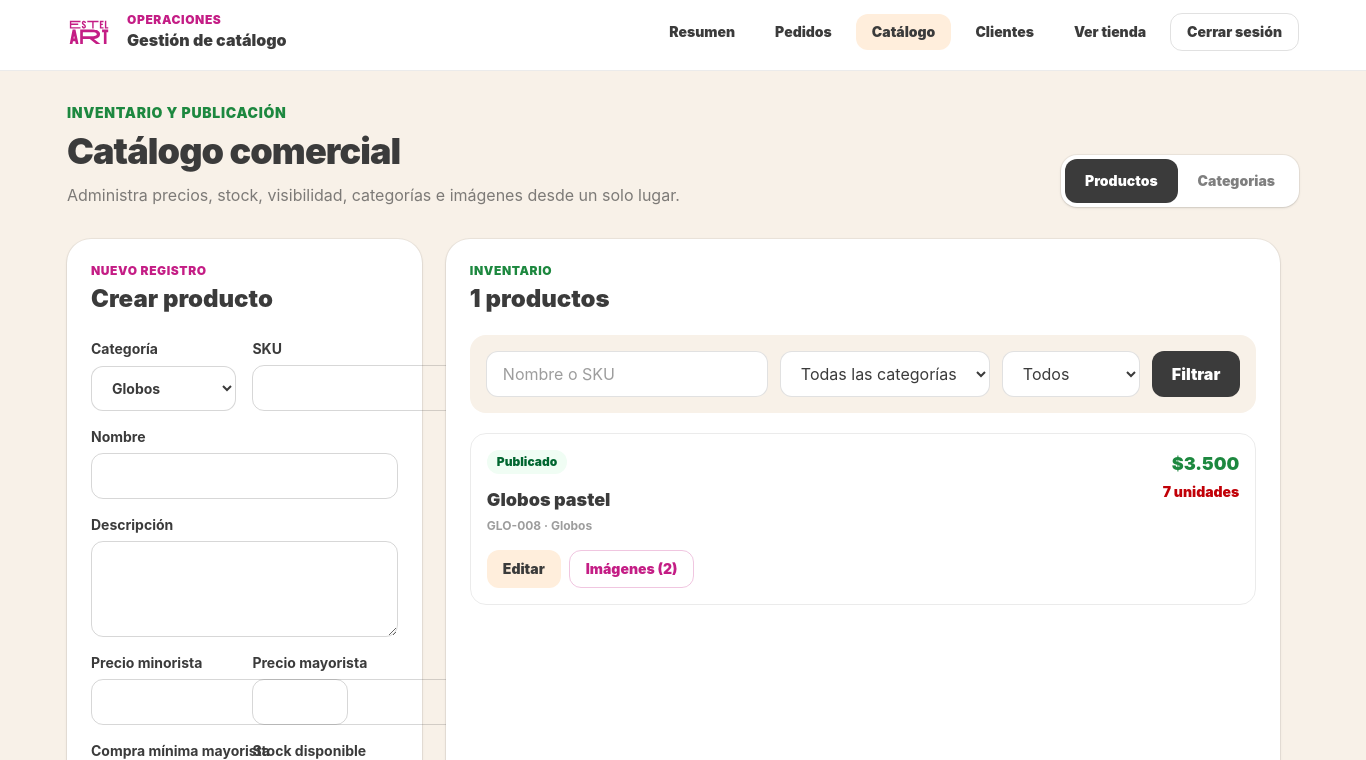
it: GestionCatalogo › edita stock y conserva el contrato esperado por la API
Expected: the heading "Globos pastel" is shown, [487,486,610,514]
Click the button "Editar".
click(524, 569)  # box [487,550,561,588]
(page scrolled)
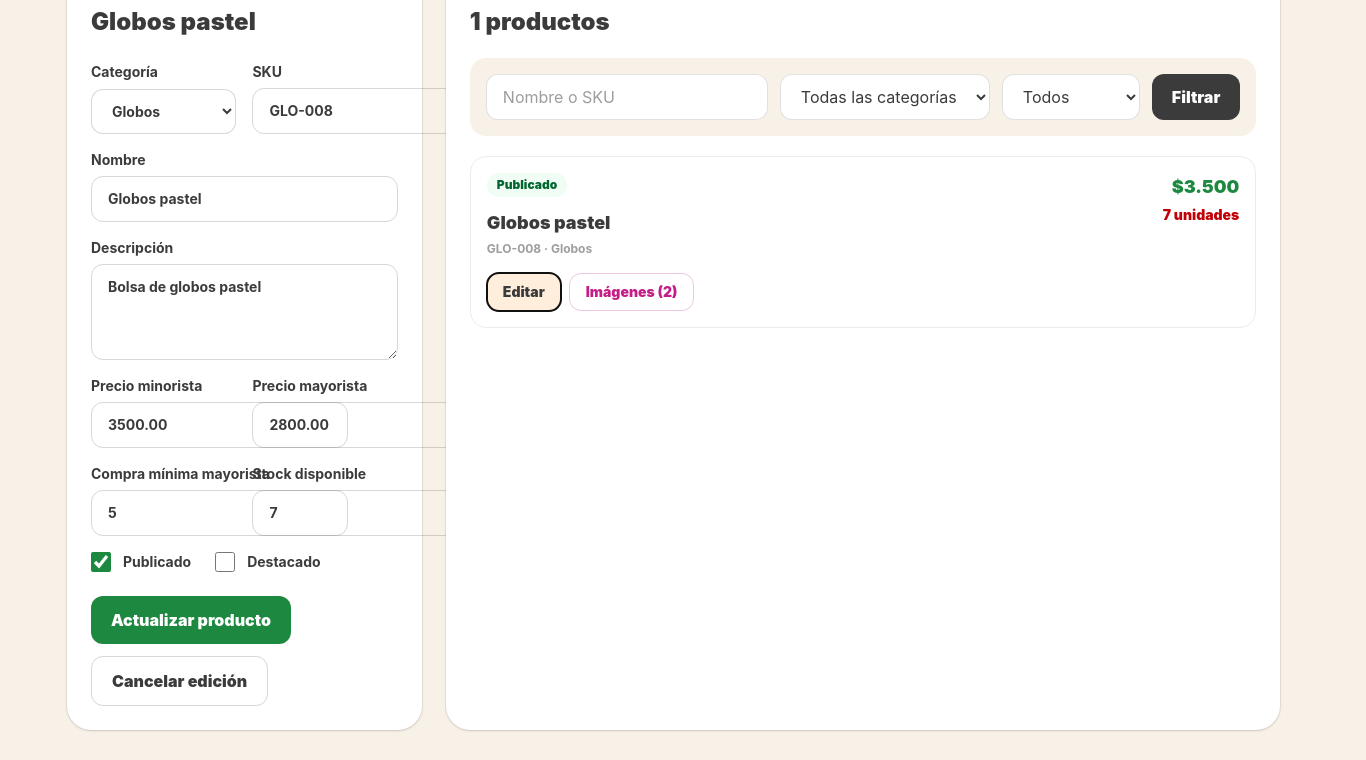
Replace the text in the number field labelled "Stock disponible" with "25" at (381, 513), box [252,490,509,536]
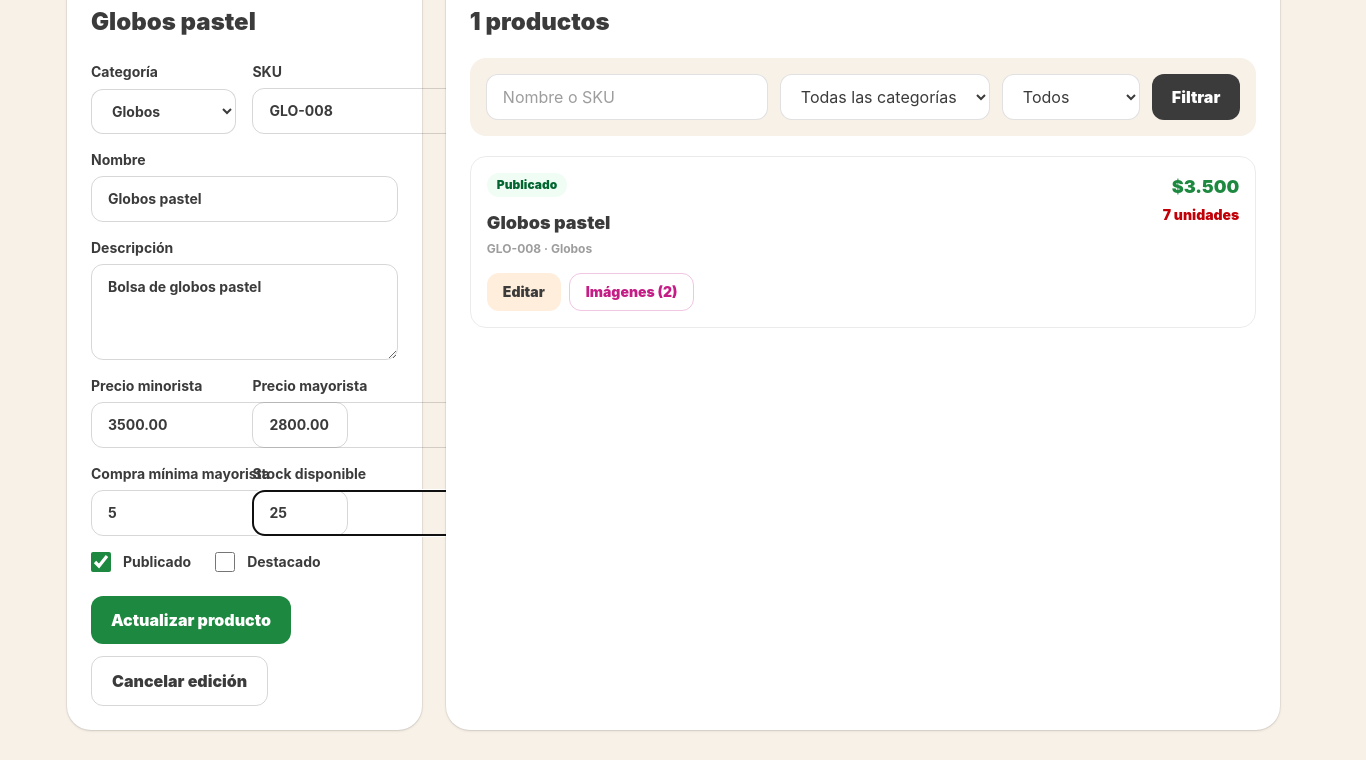
Click the button "Actualizar producto".
click(191, 620)  # box [91,596,291,644]
(page scrolled)
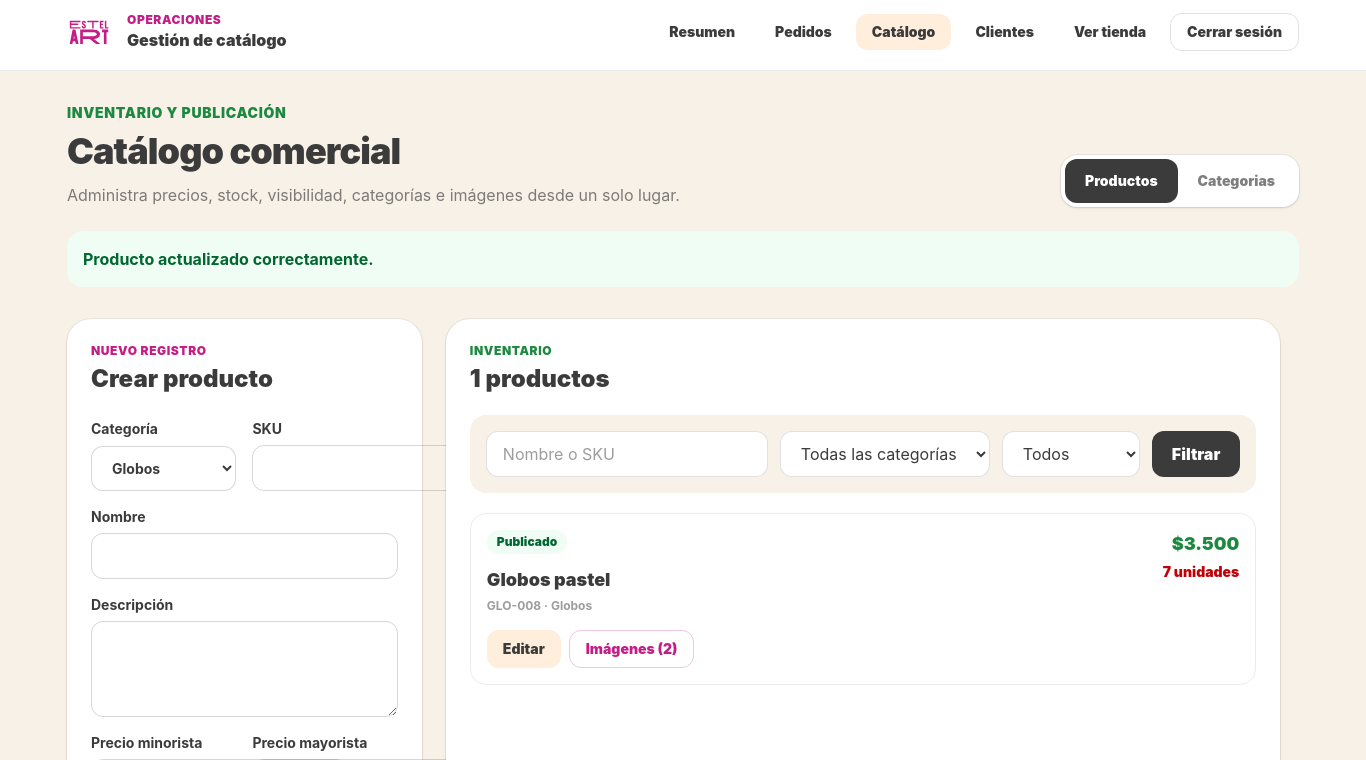
Now the message reads "Producto actualizado correctamente.", box [83,249,374,269]
